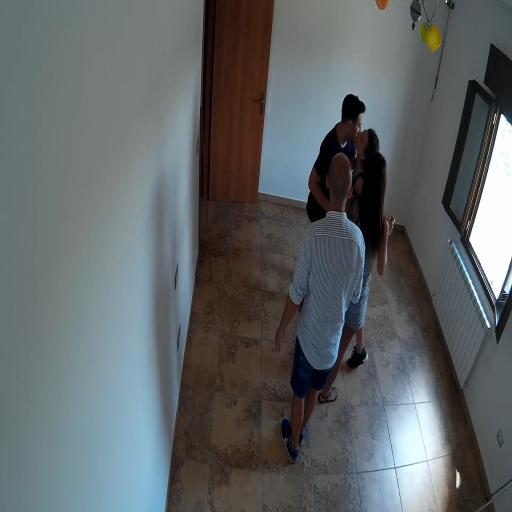nao-violencia: (298, 61, 395, 233)
